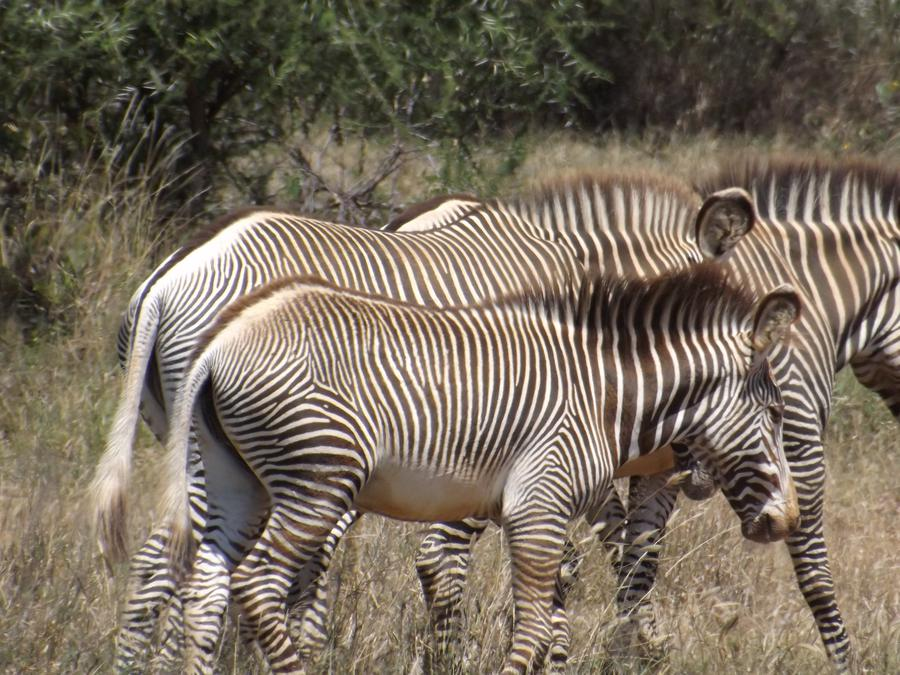zebra_grevys: (213, 268, 582, 523)
